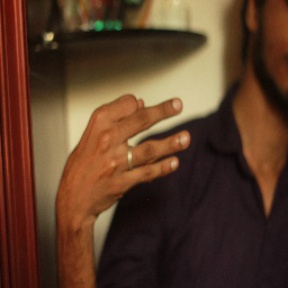K: (54, 90, 194, 209)
